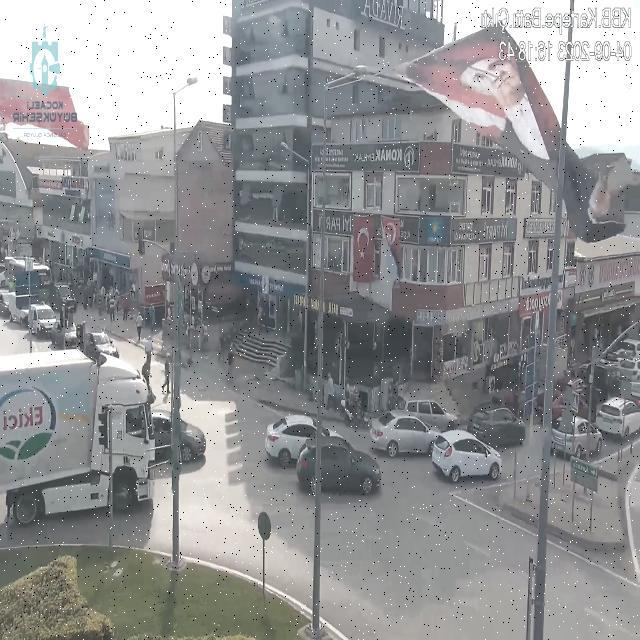car: (432, 430, 502, 482), (320, 438, 381, 494), (370, 412, 439, 456), (468, 406, 525, 447), (266, 415, 315, 462), (552, 416, 601, 456), (400, 398, 458, 431), (595, 398, 640, 436), (181, 420, 206, 462), (296, 439, 316, 491), (152, 411, 171, 462), (29, 304, 58, 334)
lorry: (0, 350, 155, 524)
